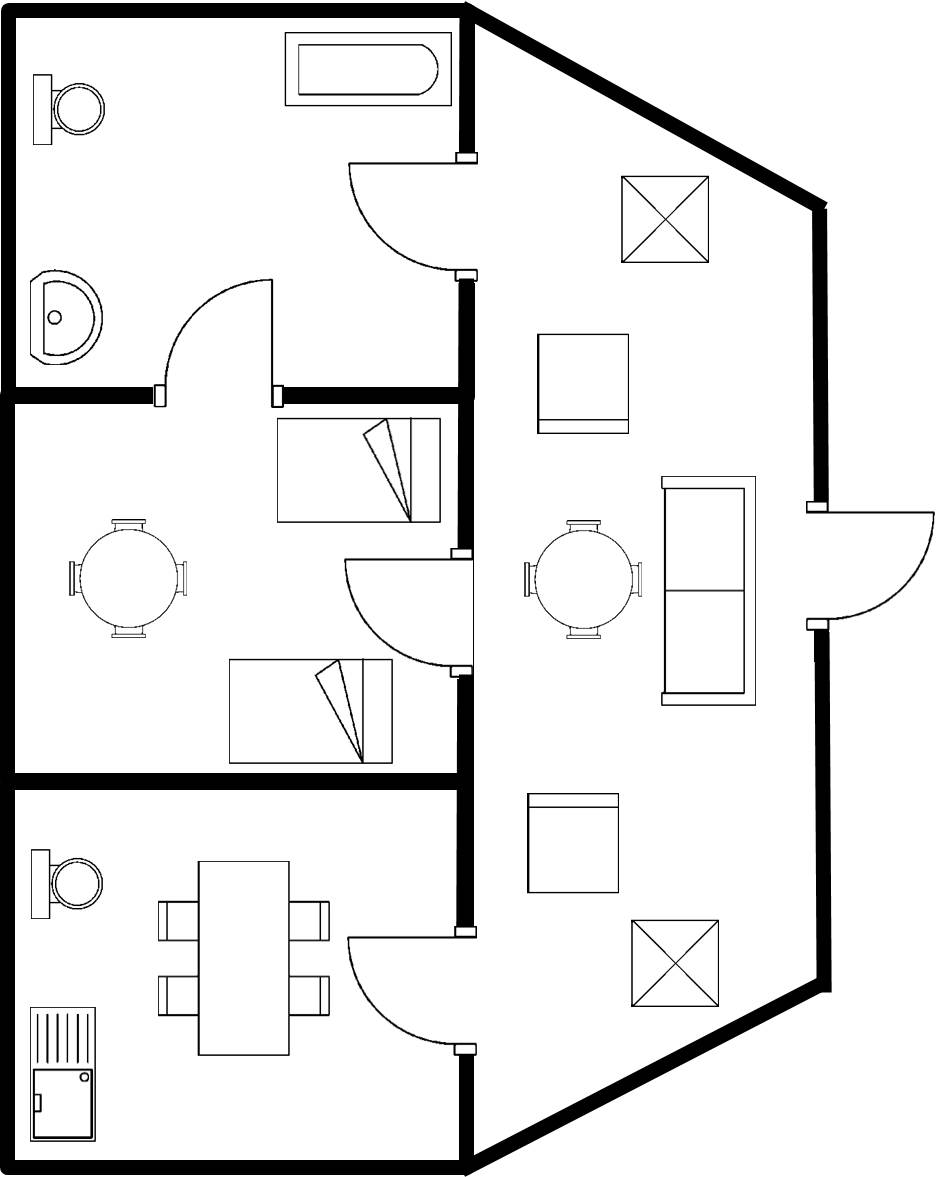bed: (268, 411, 447, 532), (219, 652, 402, 769)
coffee_table: (622, 908, 727, 1024), (608, 167, 716, 273)
dining_table: (150, 850, 339, 1063)
large_sink: (21, 840, 109, 931), (29, 65, 109, 156)
large_sofa: (649, 467, 761, 713)
round_table: (56, 509, 196, 646), (516, 509, 646, 651)
sink: (21, 997, 104, 1151)
small_sink: (23, 265, 110, 373)
small_sofa: (527, 325, 640, 446), (521, 787, 624, 901)
tub: (278, 24, 460, 121)
